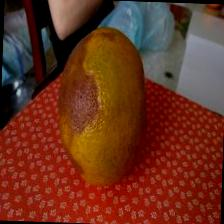Orange Rotten: (50, 19, 156, 190)
